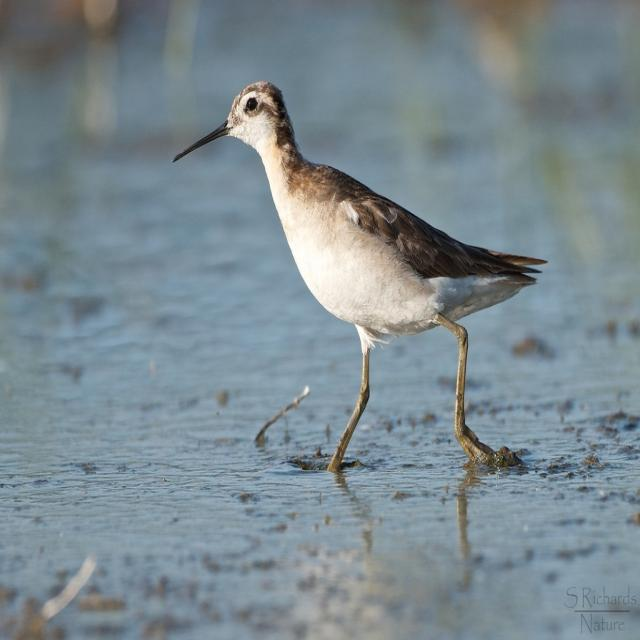bird: (177, 73, 561, 452)
